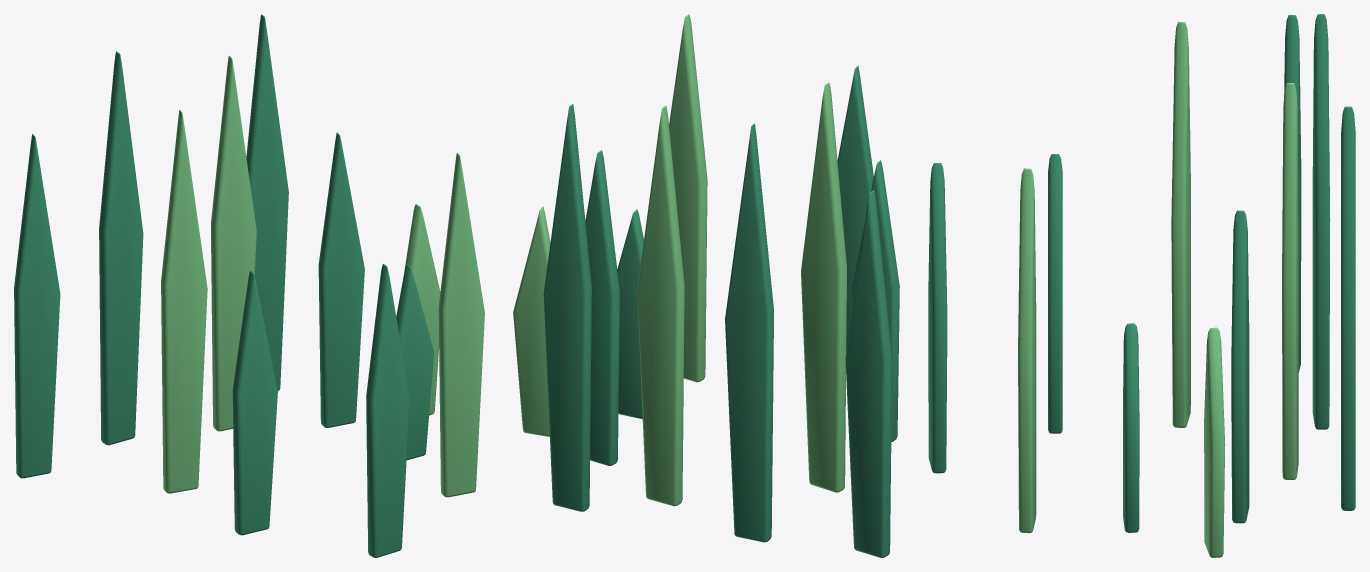
Rendered from r005_reef_seagrass_cards_seagrass_02.glb.
3 views of the same model, side by side, from view 1: azimuth 30°, elevation 25°; view 2: azimuth 150°, elevation 25°; view 3: azimuth 270°, elevation 25° (orthographic). The views are drawn at different scales.
Visible parts, largest first — view 1: r005_reef_seagrass_cards_seagrass_02.001; view 2: r005_reef_seagrass_cards_seagrass_02.001; view 3: r005_reef_seagrass_cards_seagrass_02.001.
Part boxes in pixels (box(x1,y1,x2,y2)): r005_reef_seagrass_cards_seagrass_02.001: box(14, 14, 484, 557); r005_reef_seagrass_cards_seagrass_02.001: box(513, 14, 899, 557); r005_reef_seagrass_cards_seagrass_02.001: box(928, 14, 1355, 557).
Bounding box in the file's own units: 1.79 × 1.71 × 1.62.
